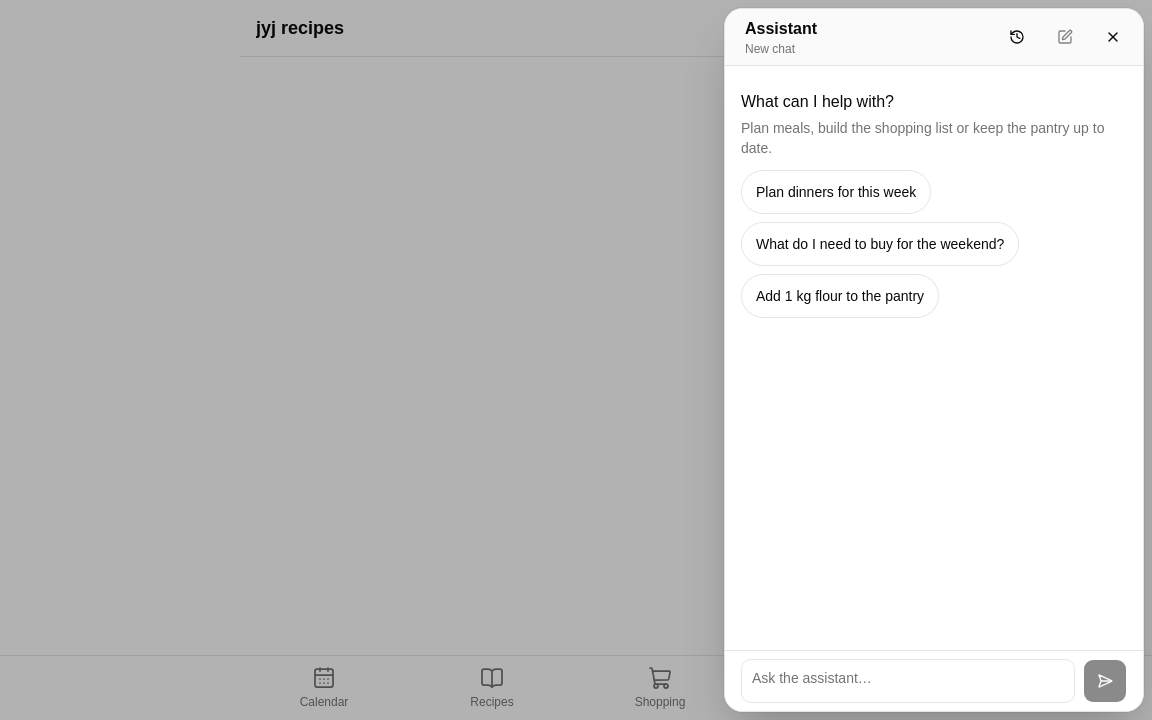
Test case: chat › opens history from the header, selects a chat and goes back
Expected: the element named "New chat" is shown, 741,82 -> 1127,318
Step 1. Click the button named "Chat history" → {"x": 1017, "y": 37}, box 995,15 -> 1039,59
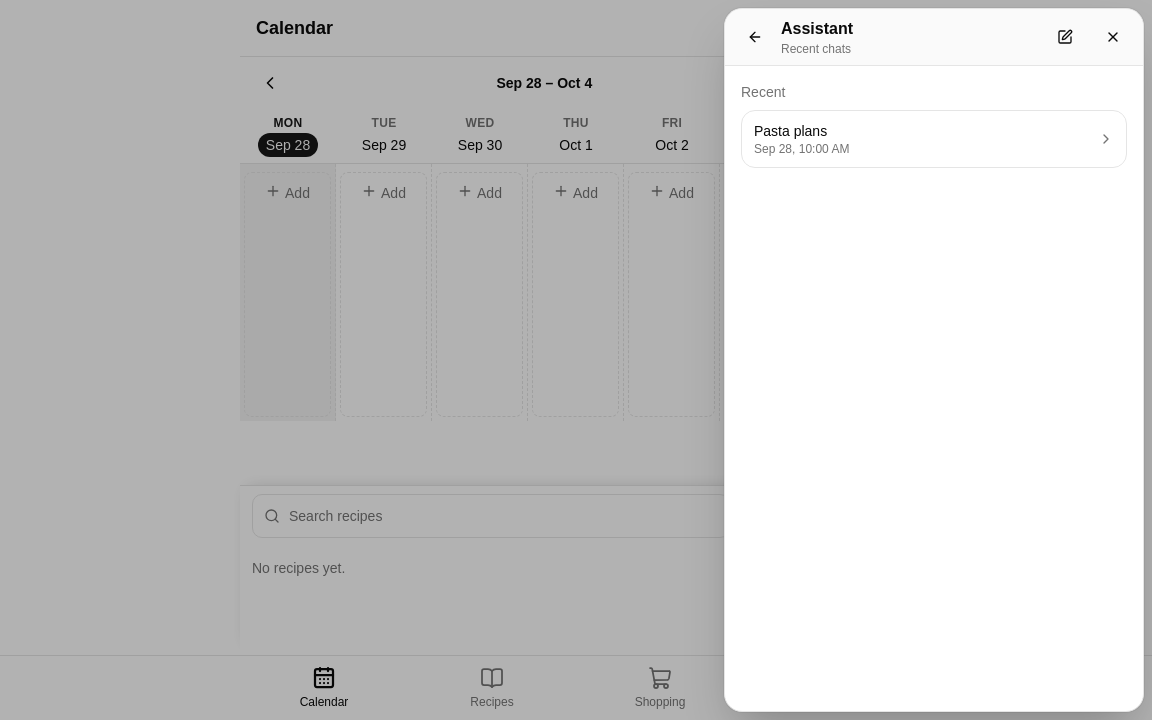
Result: the text "Recent chats" is shown at 781,42 -> 851,56
Step 2. Click the button named "Back to chat" → {"x": 755, "y": 37}, box 733,15 -> 777,59
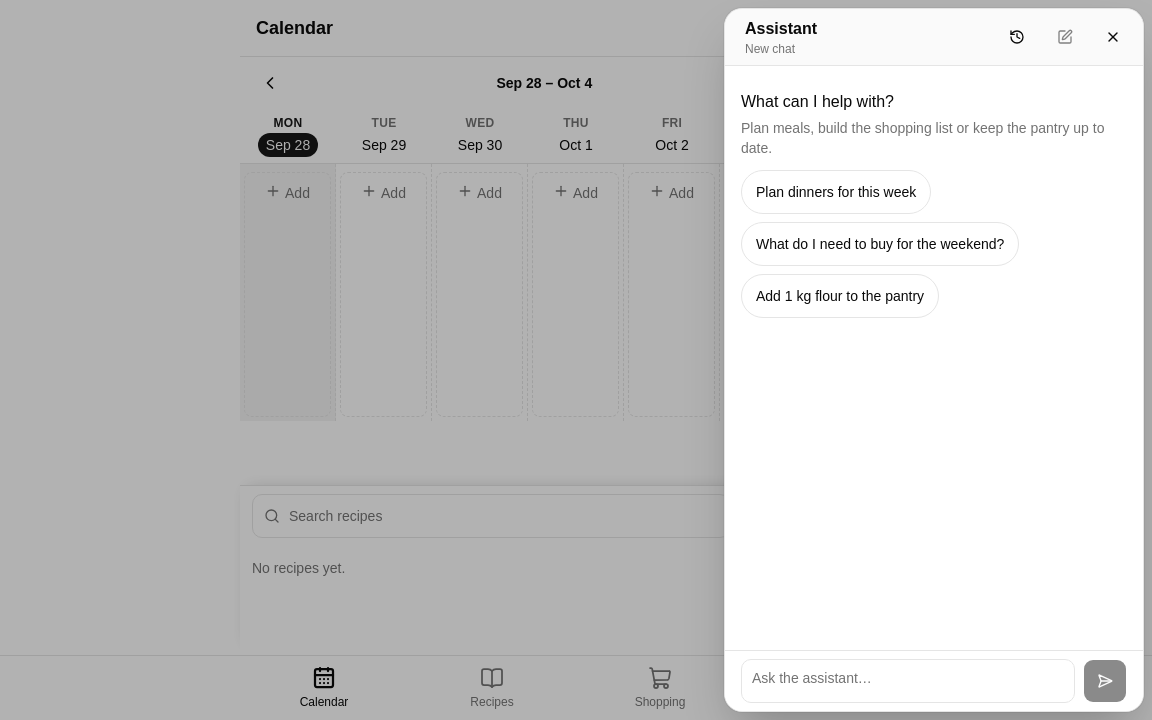
Result: the element named "New chat" is shown at 741,82 -> 1127,318
Step 3. Click the button named "Chat history" → {"x": 1017, "y": 37}, box 995,15 -> 1039,59
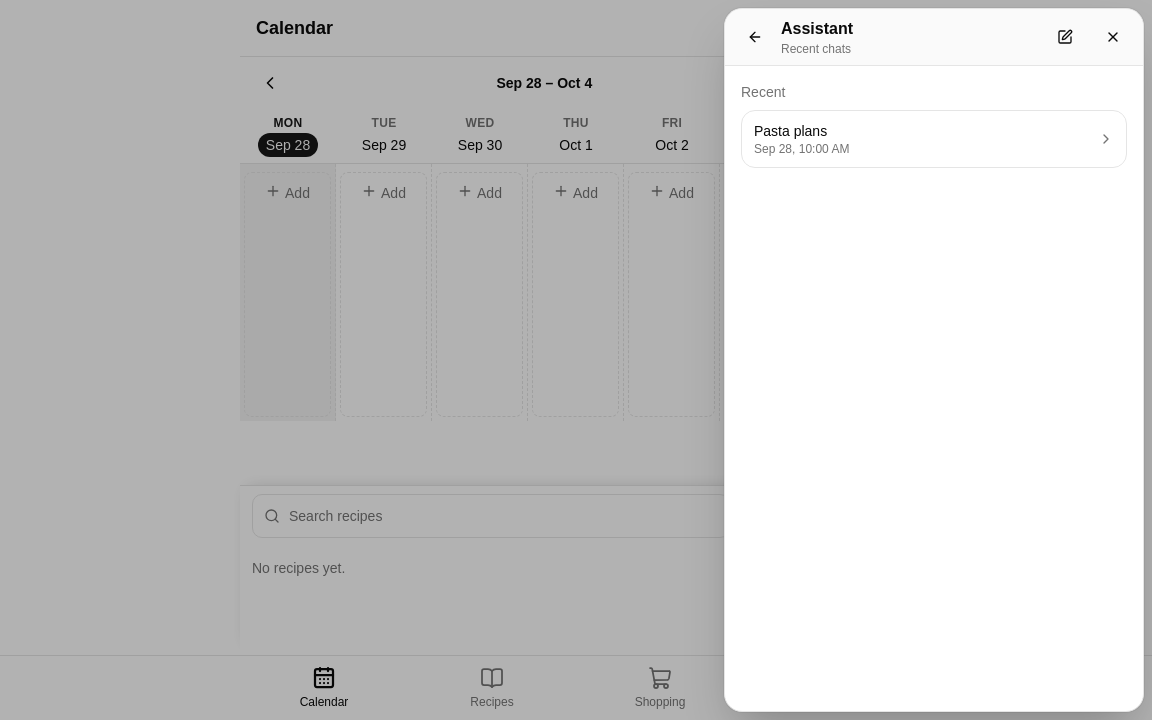
Step 4. Click the button "Pasta plans Sep 28, 10:00 AM" → {"x": 791, "y": 131}, box 742,111 -> 1126,167
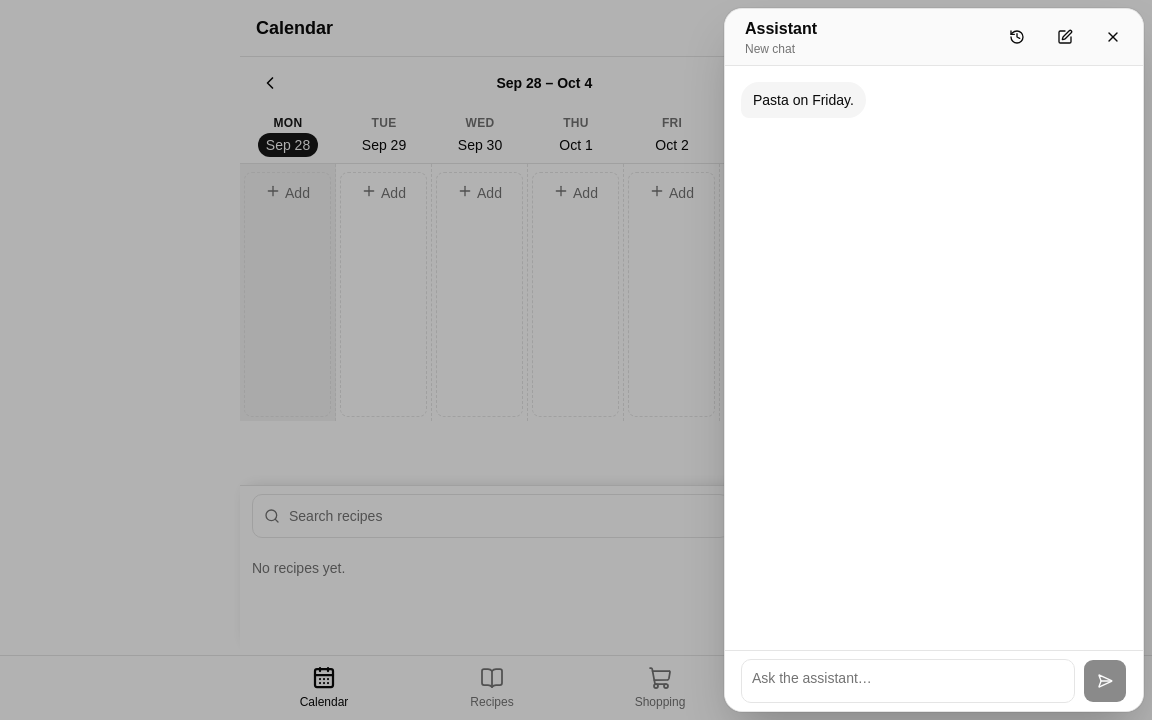
Result: the text "Pasta on Friday." is shown at 741,82 -> 866,118
Step 5. Click the button named "New chat" → {"x": 1065, "y": 37}, box 1043,15 -> 1087,59
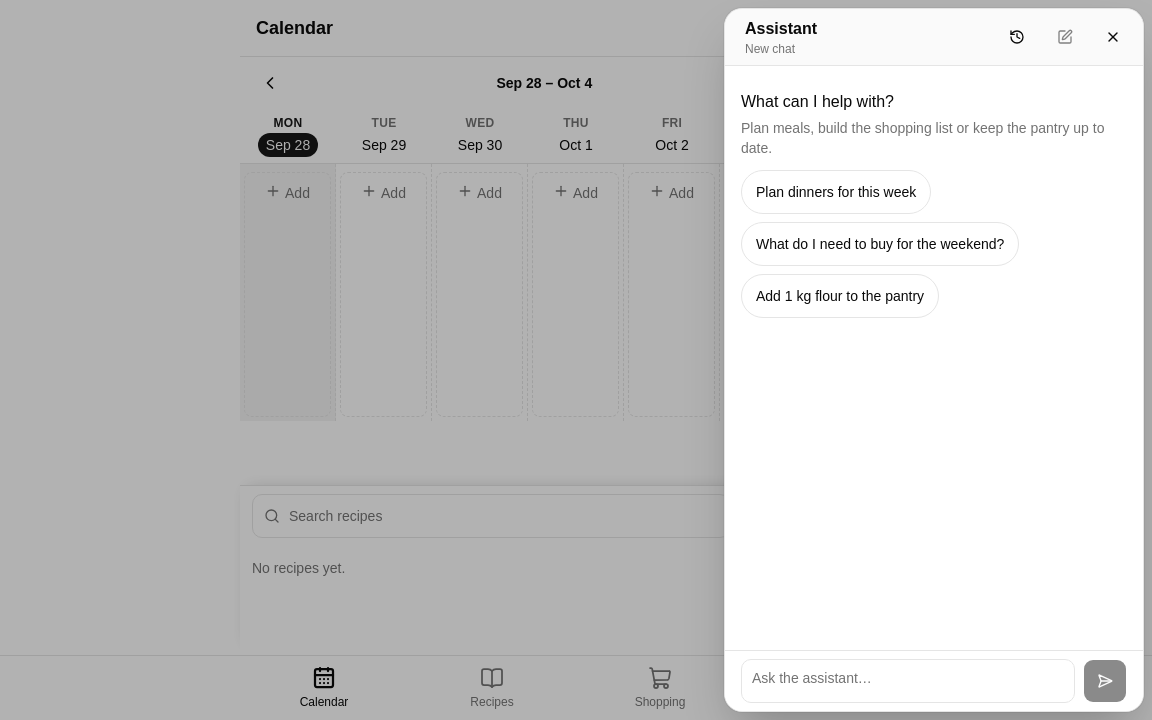
Result: the element named "New chat" is shown at 741,82 -> 1127,318
